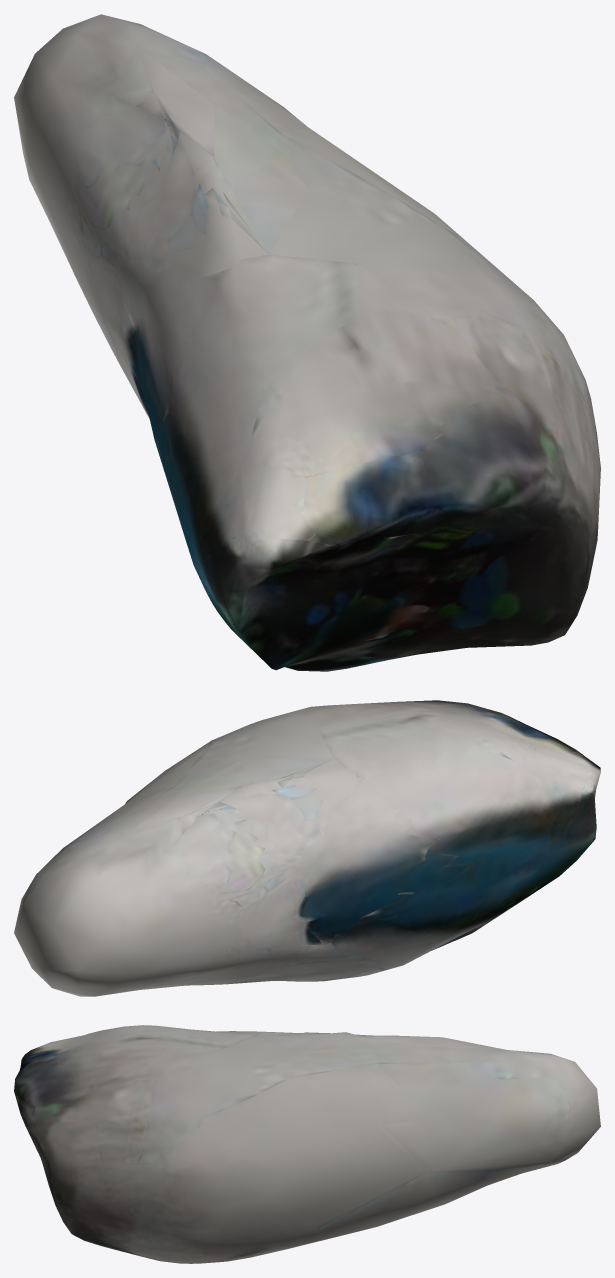
The model's file is hall.glb.
3 renders of one model, top to bottom at view 1: azimuth 30°, elevation 25°; view 2: azimuth 150°, elevation 25°; view 3: azimuth 270°, elevation 25°, orthographic. The views are drawn at different scales.
Bounding box in the file's own units: 0.176 × 0.1306 × 0.3363.
Materials: 1 (1 with a texture image).
